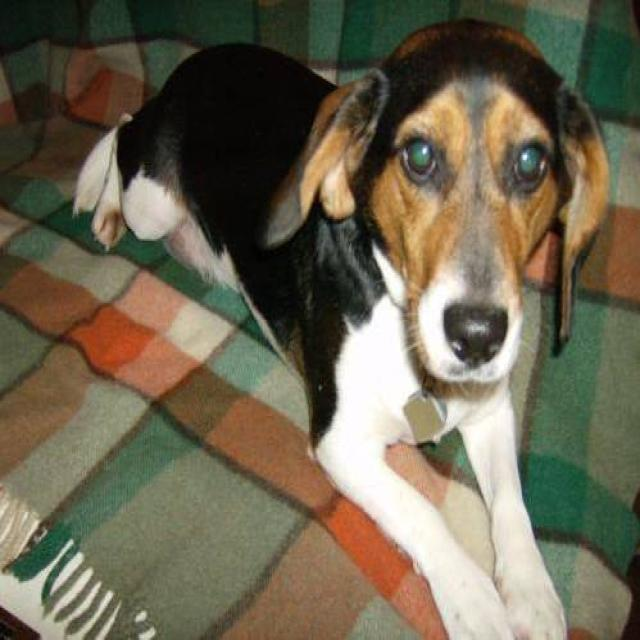dog: (71, 17, 609, 638)
